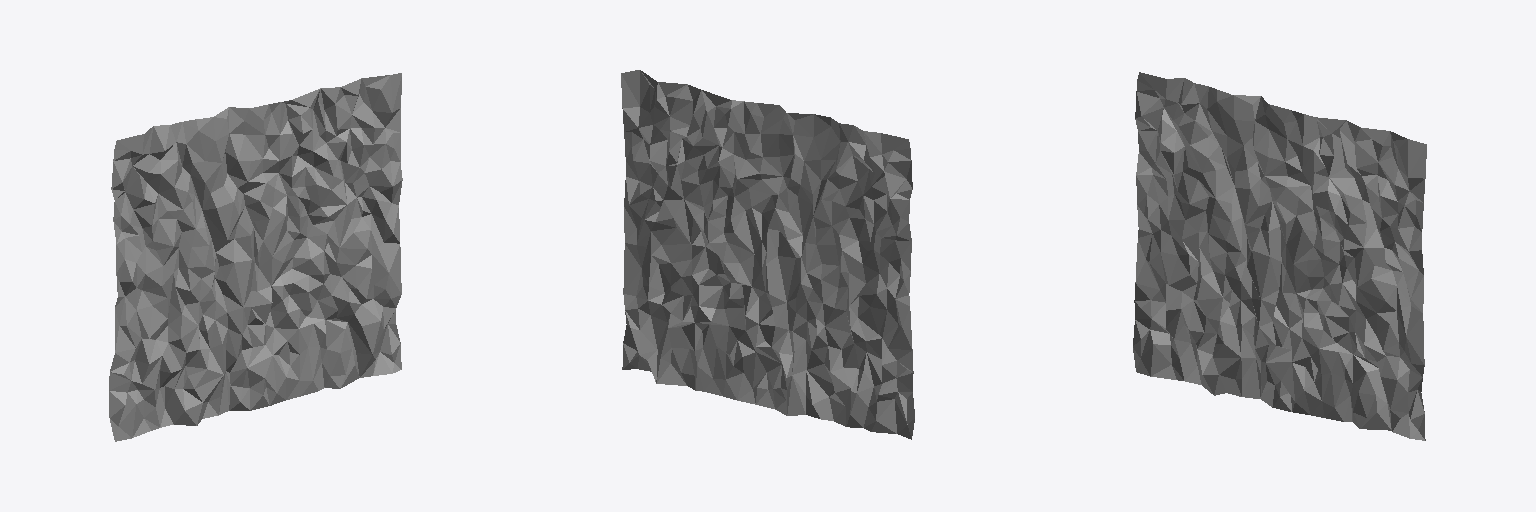
Rendered from cliff_3.obj.
The picture shows the model from 3 angles: view 1: azimuth 30°, elevation 25°; view 2: azimuth 150°, elevation 25°; view 3: azimuth 330°, elevation 25°; orthographic projection.
Parts seen in each view (by area): view 1: Plane.000; view 2: Plane.000; view 3: Plane.000.
Part boxes in pixels (x1,y1,x2,y2): Plane.000: (109,73,402,441); Plane.000: (621,70,914,439); Plane.000: (1133,72,1426,440).
Bounding box in the file's own units: 204 × 202 × 10.48.